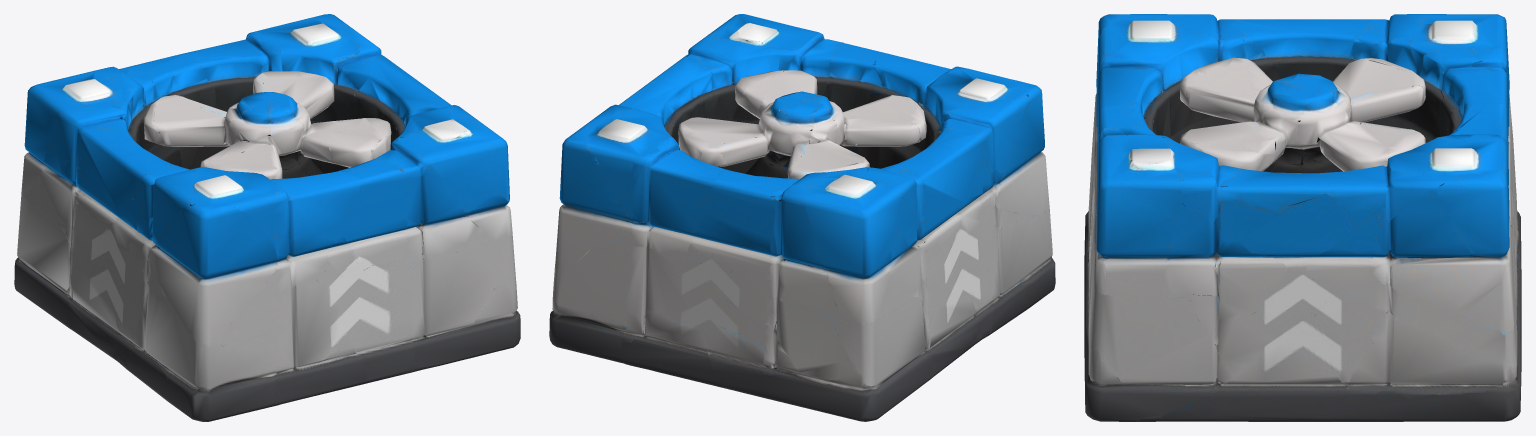
Rendered from fan.glb.
3 views of the same model, side by side, from view 1: azimuth 30°, elevation 25°; view 2: azimuth 150°, elevation 25°; view 3: azimuth 270°, elevation 25° (orthographic). The views are drawn at different scales.
Parts seen in each view (by area): view 1: fan_Visual, fan_Rotor_Visual; view 2: fan_Visual, fan_Rotor_Visual; view 3: fan_Visual, fan_Rotor_Visual.
Boxes of the visible parts, x1,y1,x2,y2 form: fan_Visual: [14, 14, 520, 421]; fan_Rotor_Visual: [143, 71, 391, 179]; fan_Visual: [549, 14, 1055, 421]; fan_Rotor_Visual: [678, 70, 926, 179]; fan_Visual: [1084, 14, 1521, 421]; fan_Rotor_Visual: [1180, 57, 1425, 171].
Size of what is drawn, in the model's own units: 1.9 by 1.18 by 1.9.
Materials: 1 (1 with a texture image).
